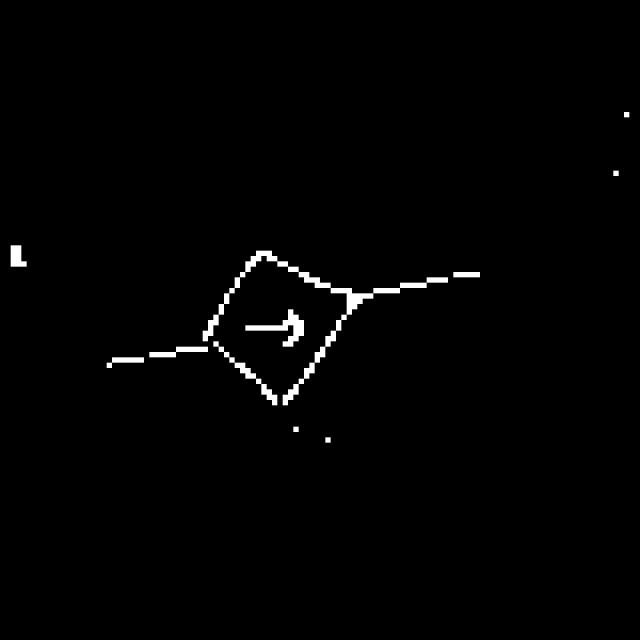dependant_current: (197, 222, 370, 410)
